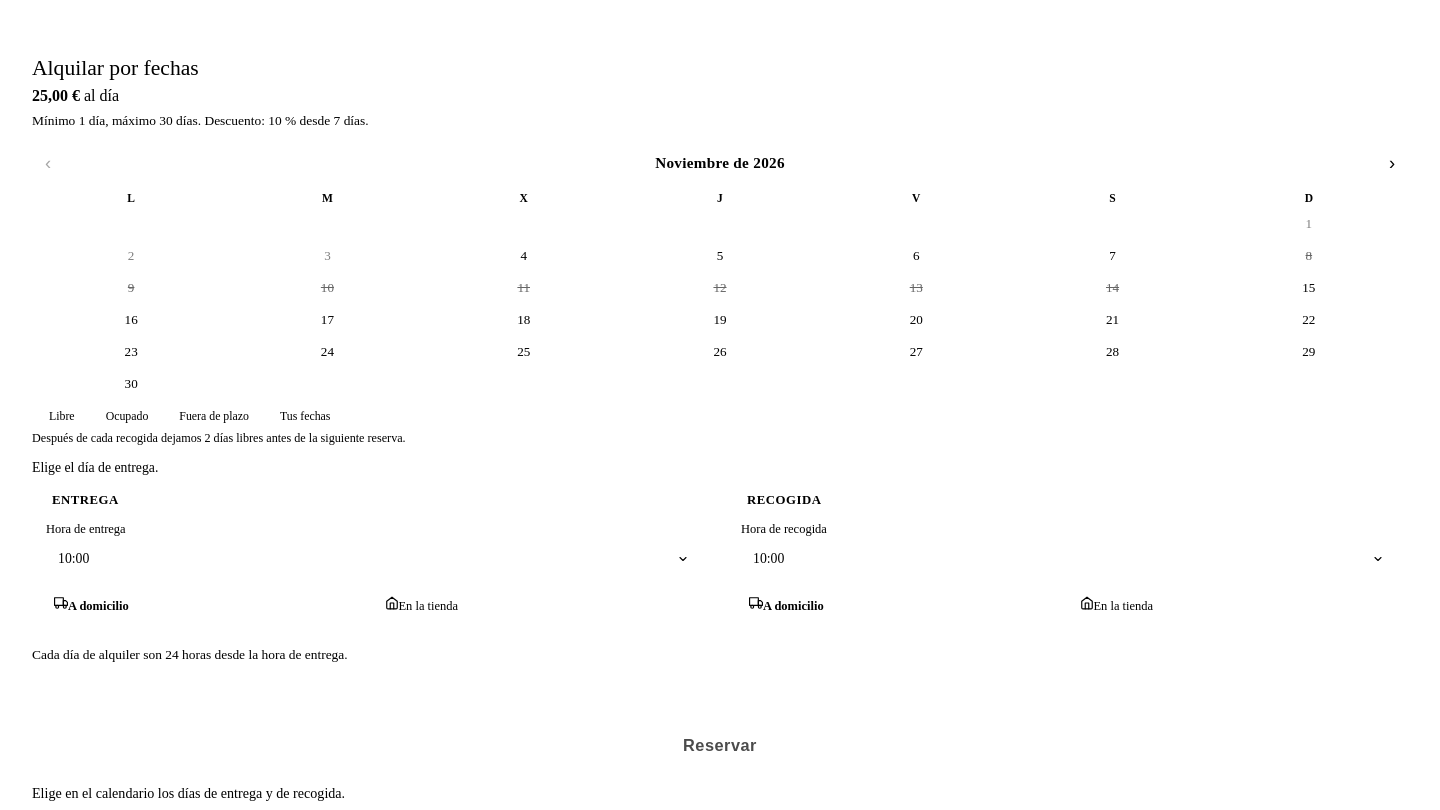
Test case: PanelReserva — precio en vivo › si una regla no se cumple, el mensaje del servidor, y no se puede reservar
Click the button named "miércoles, 4 de noviembre de 2026": point(524, 256) [427,241,621,271]
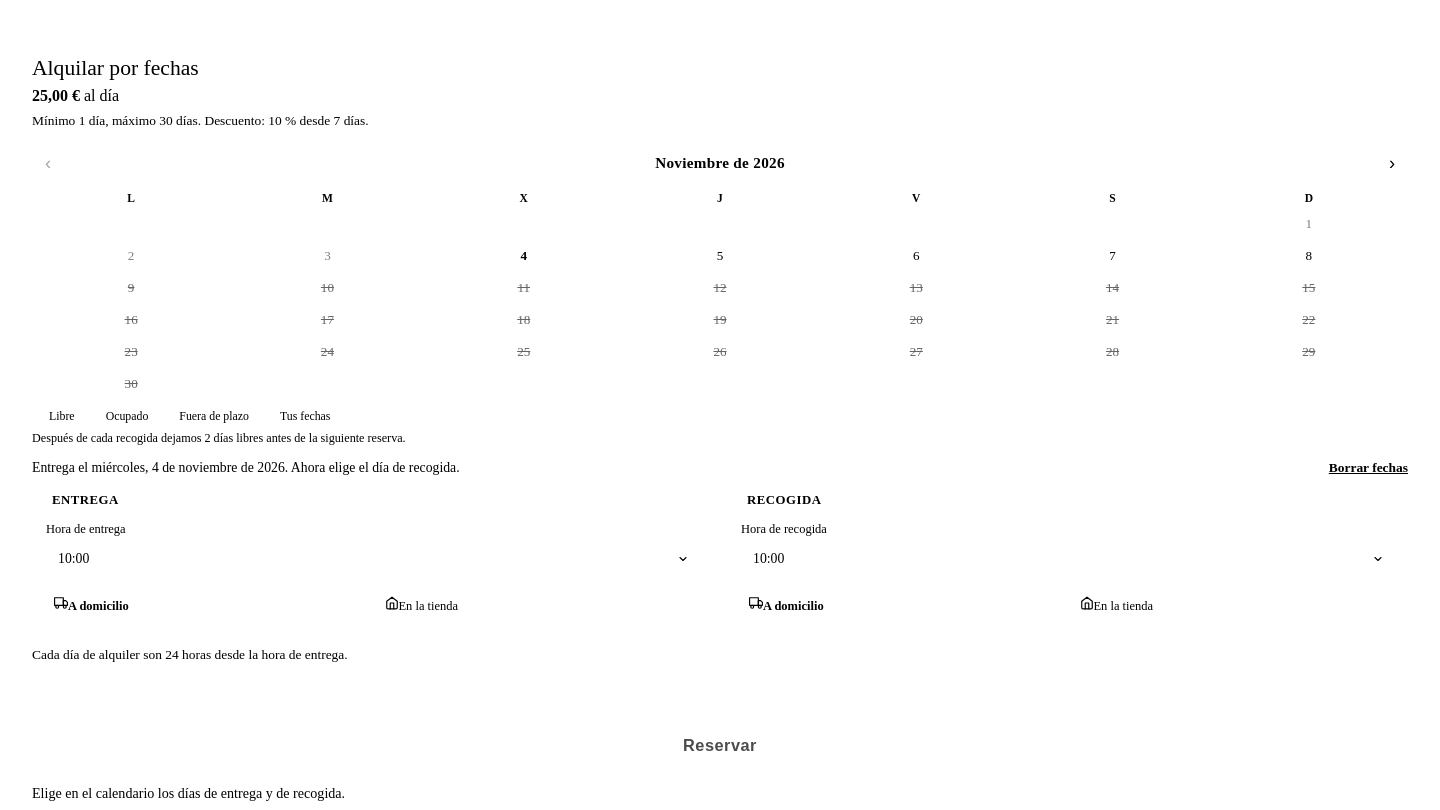
Click the button named "sábado, 7 de noviembre de 2026": point(1113, 256) [1015,241,1210,271]
(page scrolled)
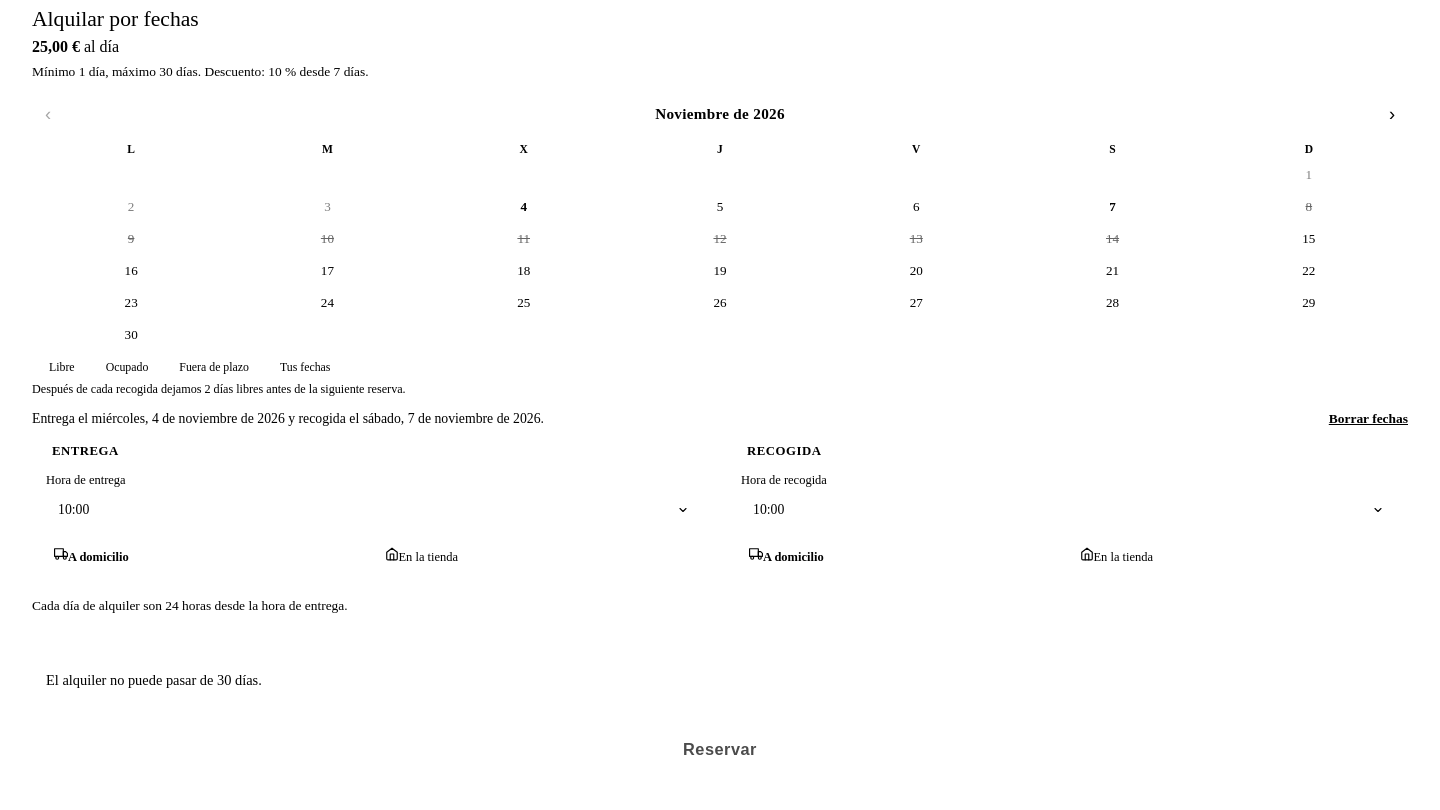
Expected: the button "Reservar" is disabled, [32,722,1408,778]
Result: the message reads "El alquiler no puede pasar de 30 días." at [46,672,262,688]
